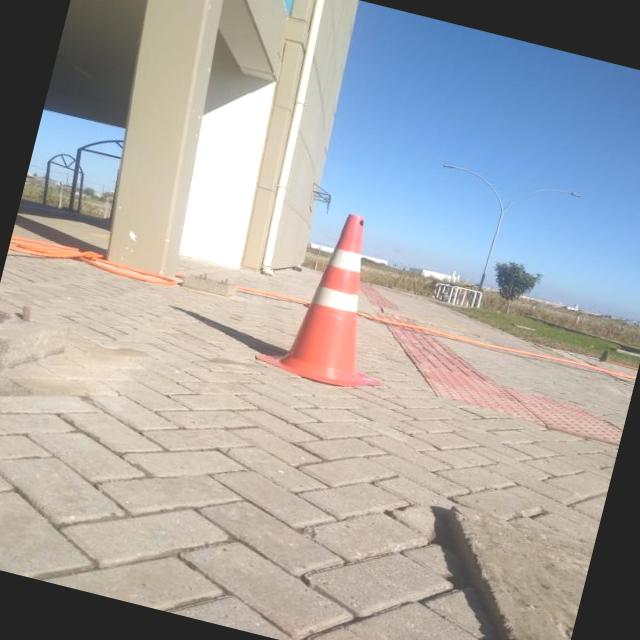Cone: (247, 192, 426, 398)
